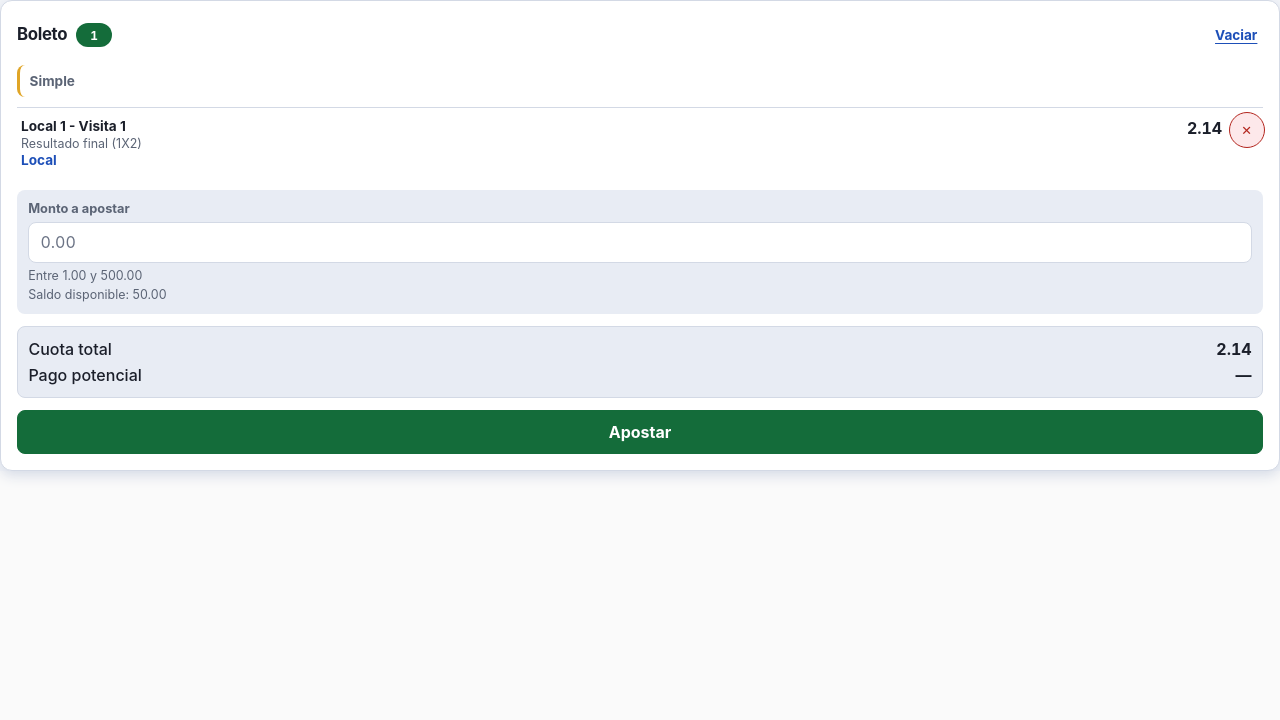
it: BetSlipComponent › muestra el saldo y valida el monto, deshabilitando el botón
Expected: the button "Apostar" is disabled, [17,410,1263,454]
In the field with id "stake": (640, 242) [28,222,1252,263], type "0.5"
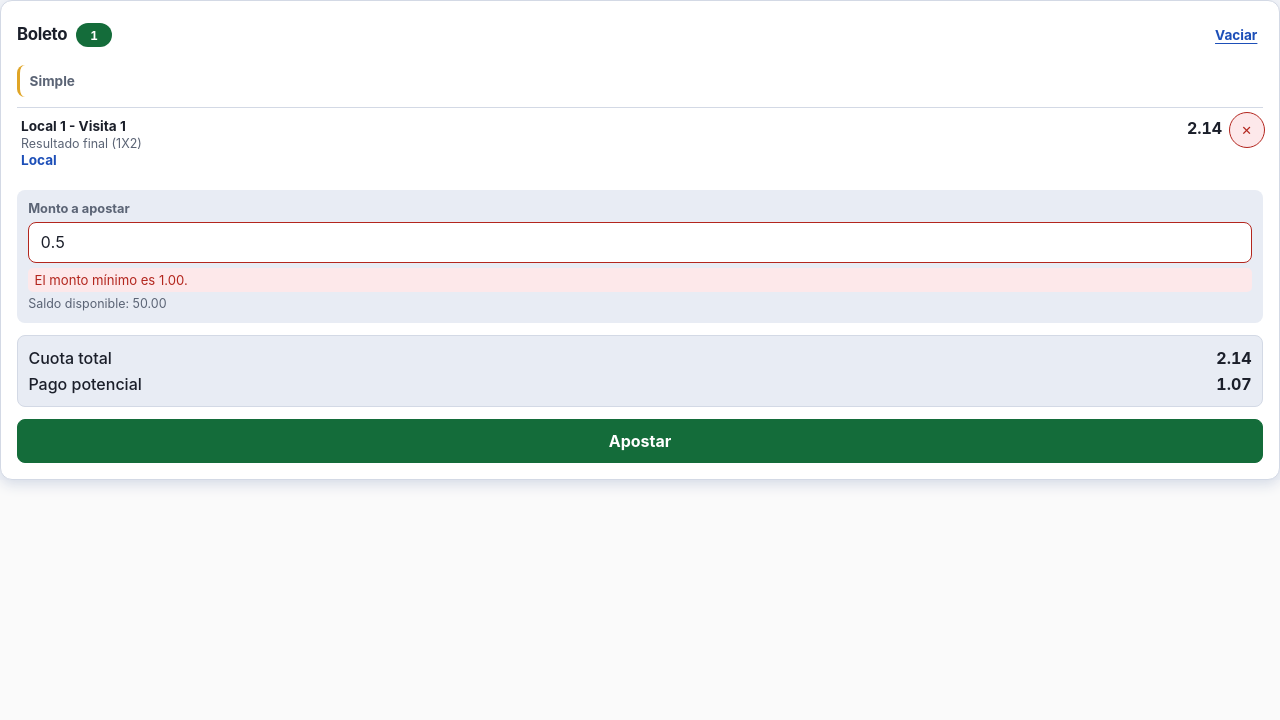
Expected: the button "Apostar" is disabled, [17,419,1263,463]
Expected: the message with id "stake-error" shows "mínimo", [35,272,188,288]
Replace the text in the field with id "stake" with "60": (640, 242) [28,222,1252,263]
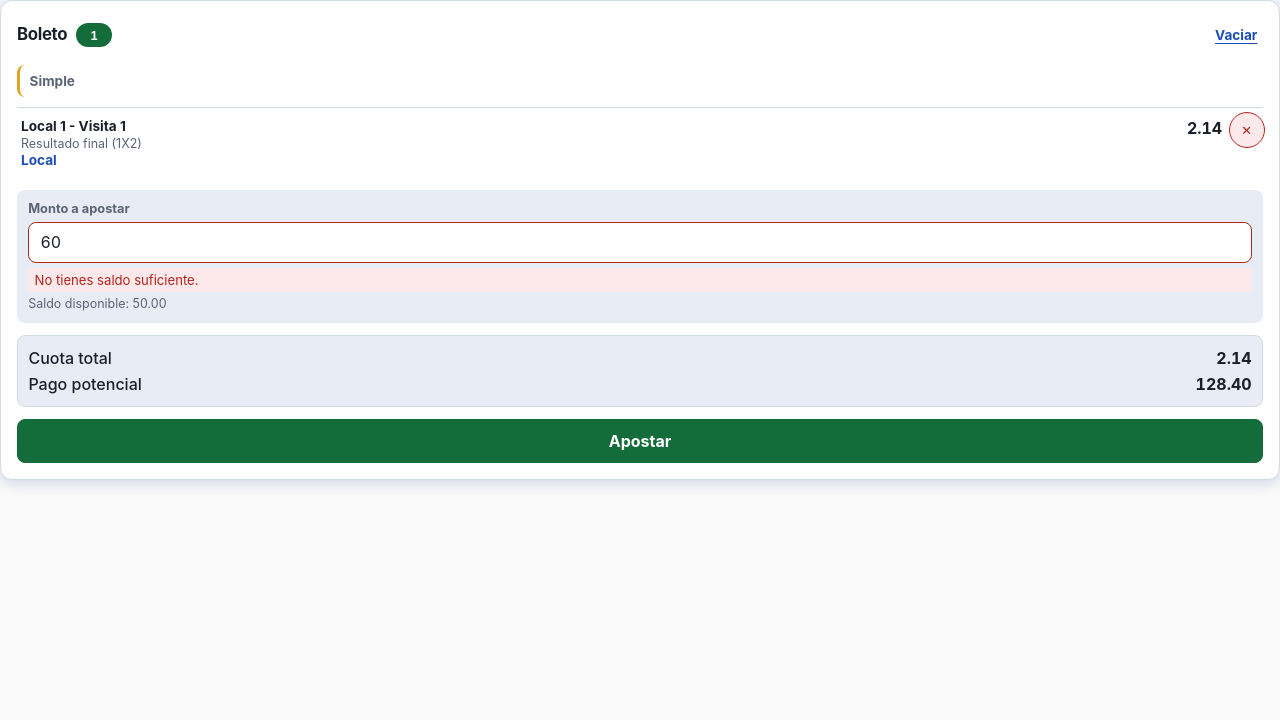
Expected: the message with id "stake-error" shows "saldo", [35,272,198,288]
Replace the text in the field with id "stake" with "20": (640, 242) [28,222,1252,263]
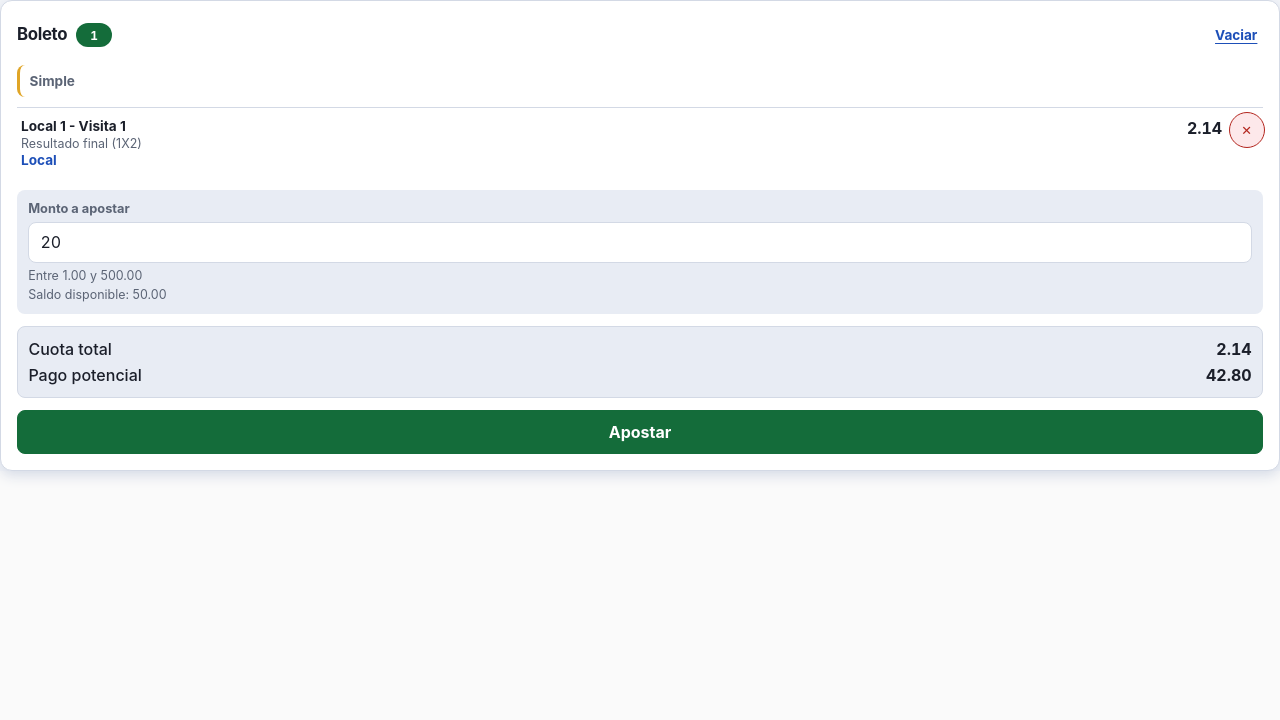
Expected: the message with id "stake-error" is gone
Expected: the button "Apostar" is enabled, [17,410,1263,454]
